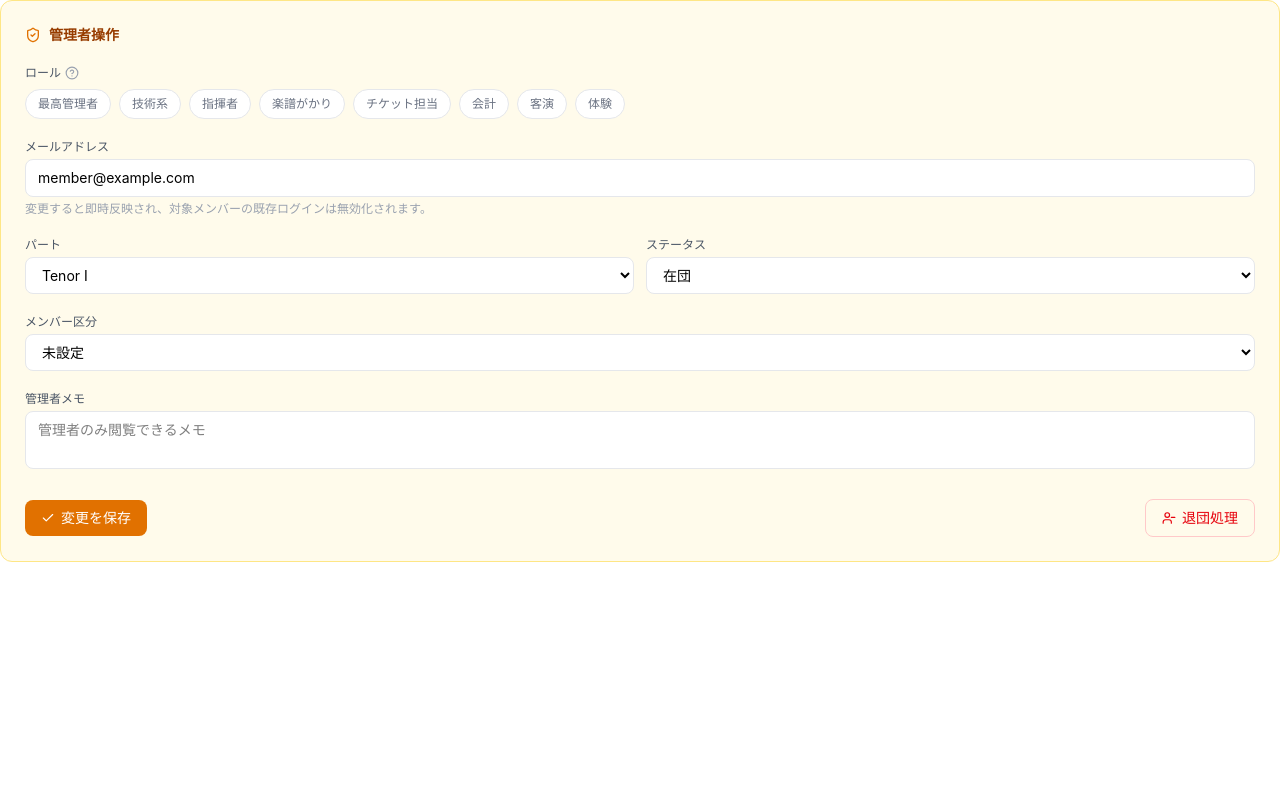
Scenario: AdminPanel（操作） › 「退団処理」クリックでonDeleteが呼ばれる
Click the button "退団処理": (1200, 518) [1145,499,1255,537]
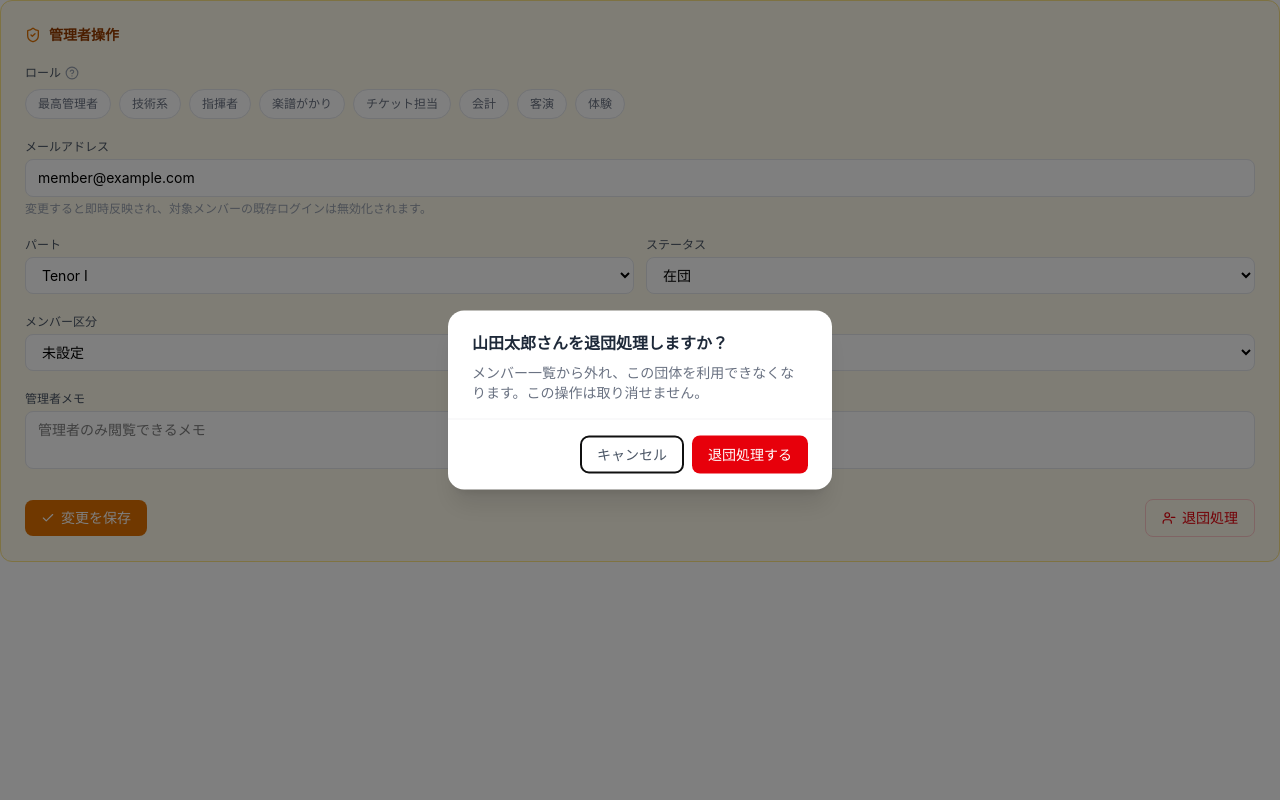
Click the button "退団処理する": (750, 454) [692,436,808,474]
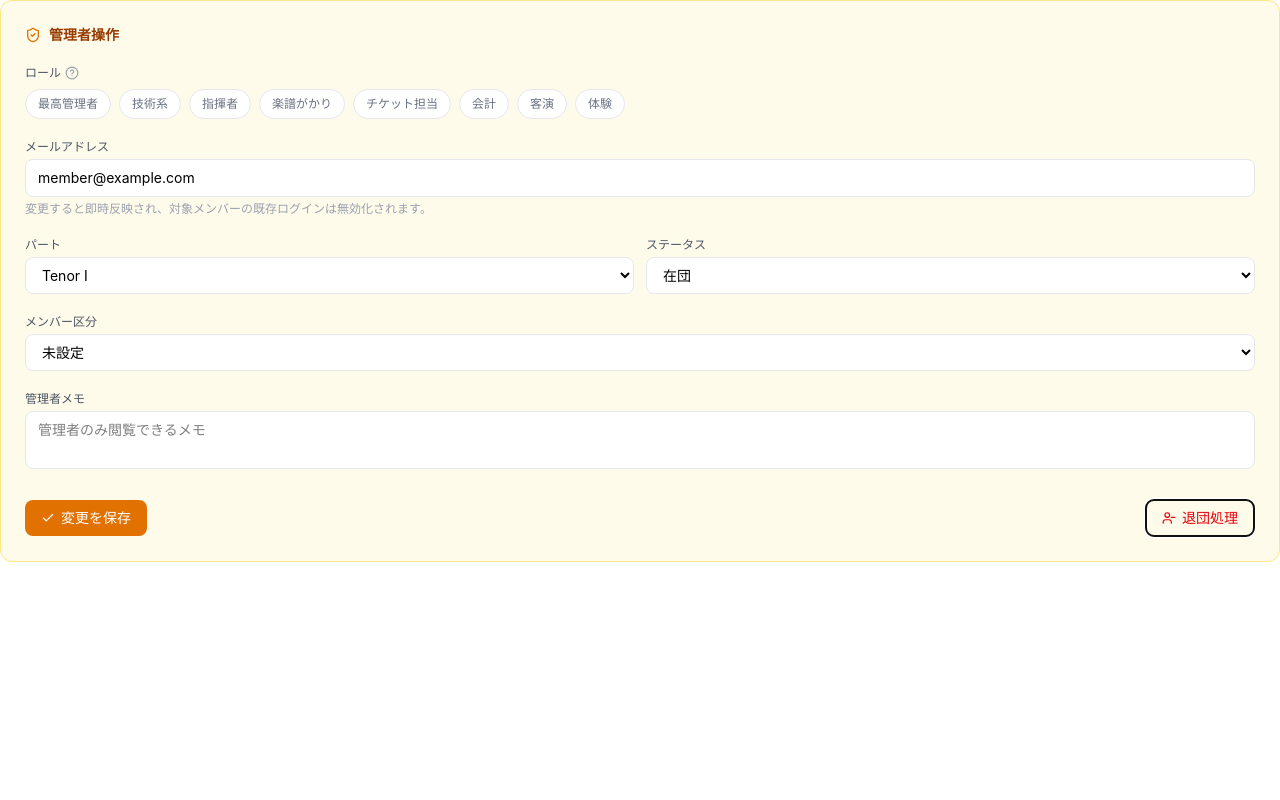
Result: the dialog is gone
